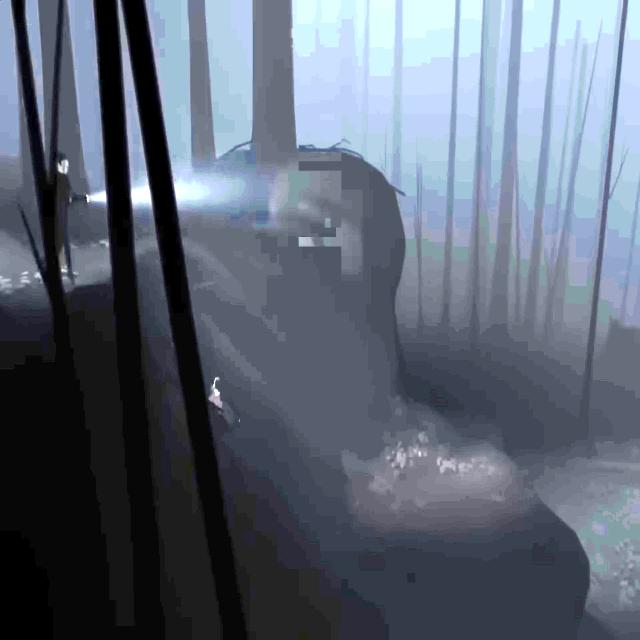boy: (208, 376, 222, 426)
